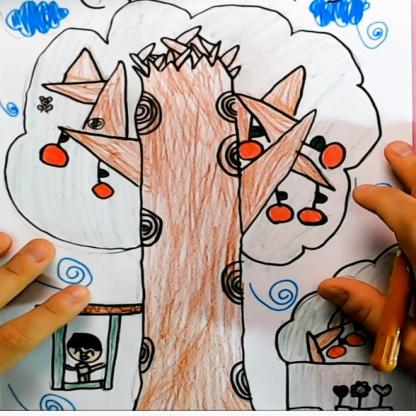apple: (40, 132, 69, 170), (312, 136, 345, 168), (90, 160, 115, 199), (299, 188, 324, 225), (267, 193, 294, 224)
branch_sharp: (79, 27, 317, 161)
crown_cloud: (6, 5, 380, 266)
knot: (219, 261, 247, 305), (134, 91, 162, 135), (227, 360, 253, 401), (217, 135, 243, 176), (137, 208, 164, 246), (134, 336, 156, 374), (215, 92, 239, 122), (87, 118, 106, 132)
trunk_straight: (137, 258, 247, 380)
